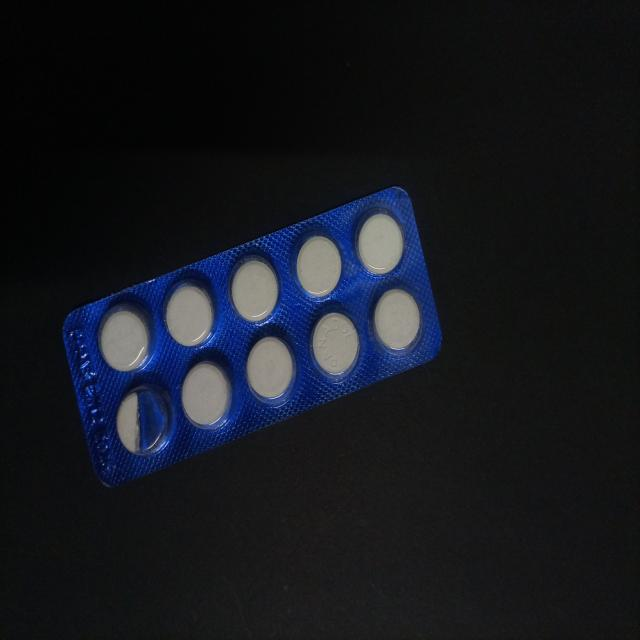defect: (113, 379, 175, 459)
